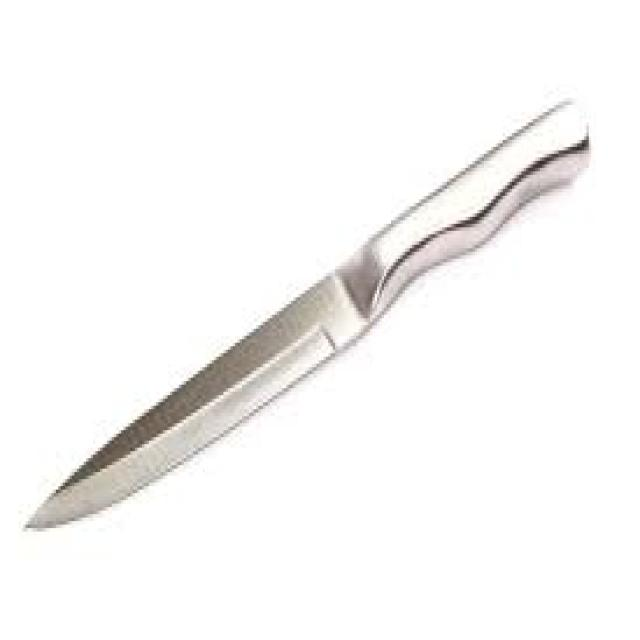Knife: (21, 91, 589, 532)
